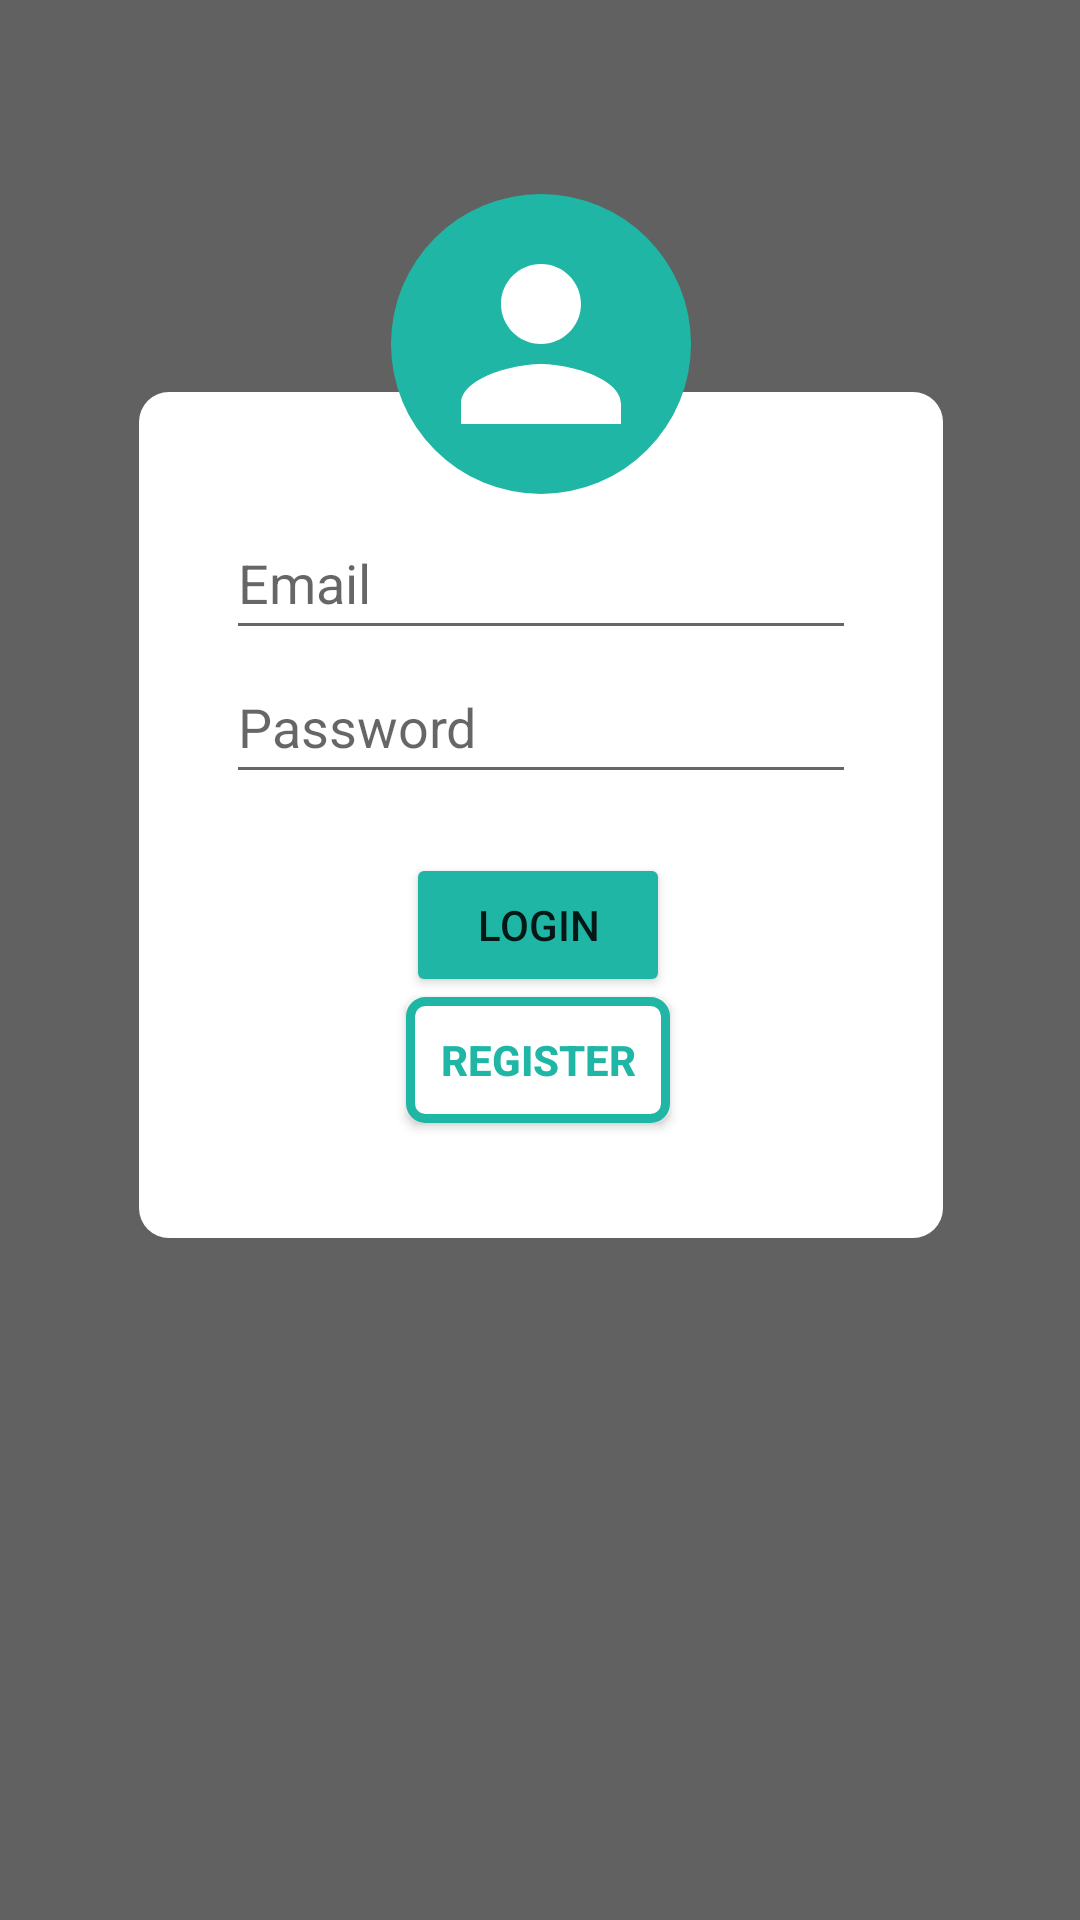

Icon click points for this 1080x1920 phone screenshot, format [x,y]:
login person: [541,344]
